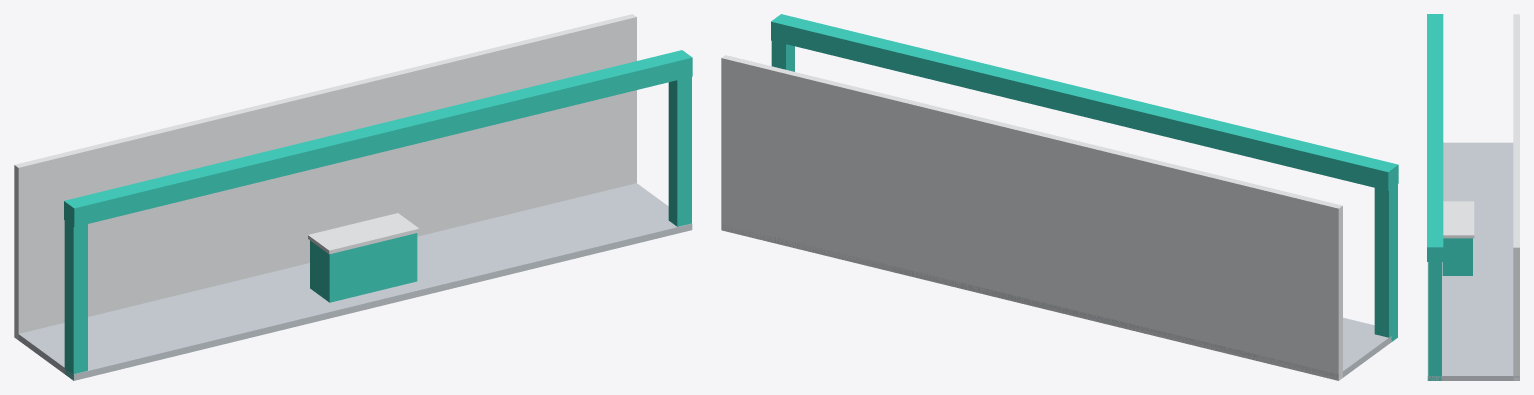
The picture shows the model from 3 angles, left to right: view 1: azimuth 30°, elevation 25°; view 2: azimuth 150°, elevation 25°; view 3: azimuth 270°, elevation 25°; orthographic projection. The views are drawn at different scales.
Visible parts, largest first — view 1: Exhibition Booth Concept; view 2: Exhibition Booth Concept; view 3: Exhibition Booth Concept.
Boxes of the visible parts, box(x1,y1,x2,y2) form: Exhibition Booth Concept: box(14, 14, 692, 380); Exhibition Booth Concept: box(721, 14, 1398, 380); Exhibition Booth Concept: box(1427, 14, 1519, 380).
Size of the model in its own units: 12 by 3.2 by 2.01.
